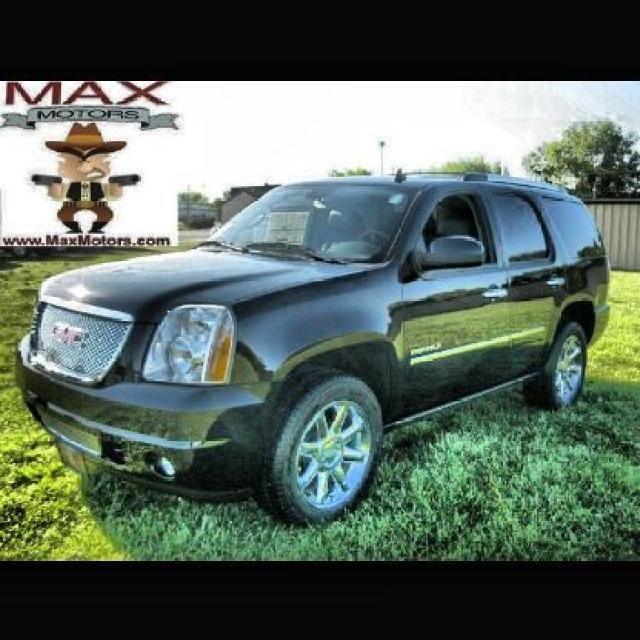black: (14, 171, 610, 524)
